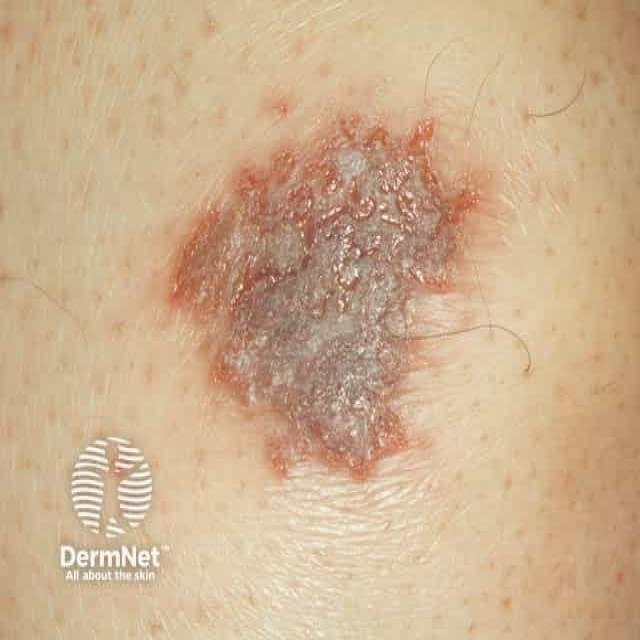Eczema: (173, 107, 472, 490)
